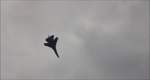maybay_muctieu: (44, 33, 62, 61)
